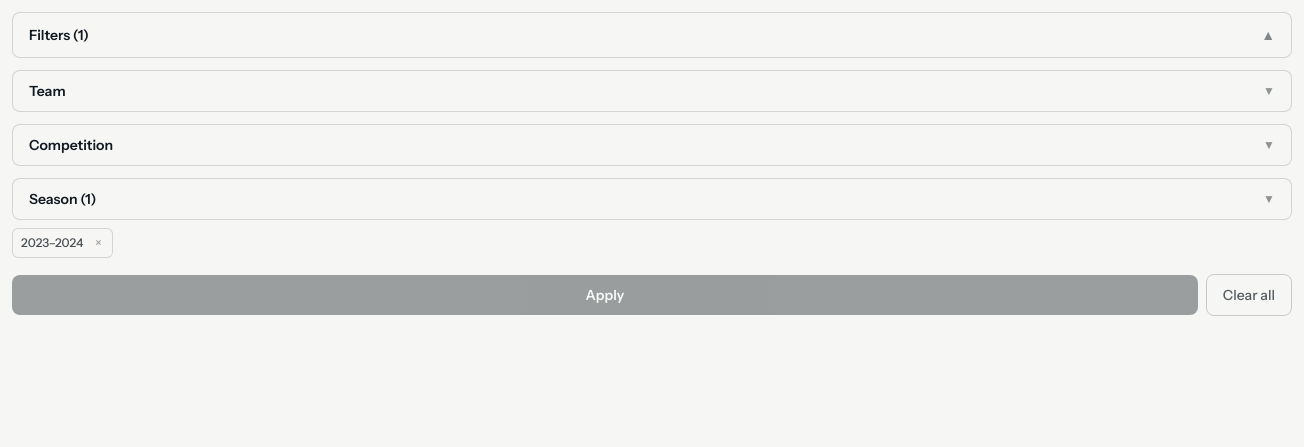
Test case: FilterPanel competition and season chips › shows one range chip for a two-bound season and no separate Clear button
Click the button "Season (1) ▼".
click(53, 199)  # box [12,178,1292,220]
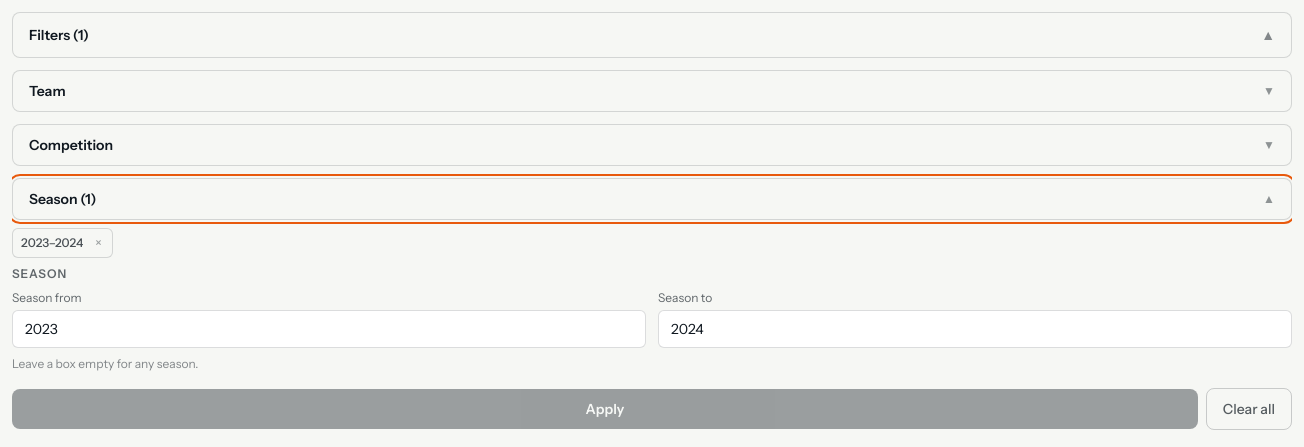
Click the button named "Remove 2023–2024 from Season".
click(98, 243)  # box [89,233,108,253]
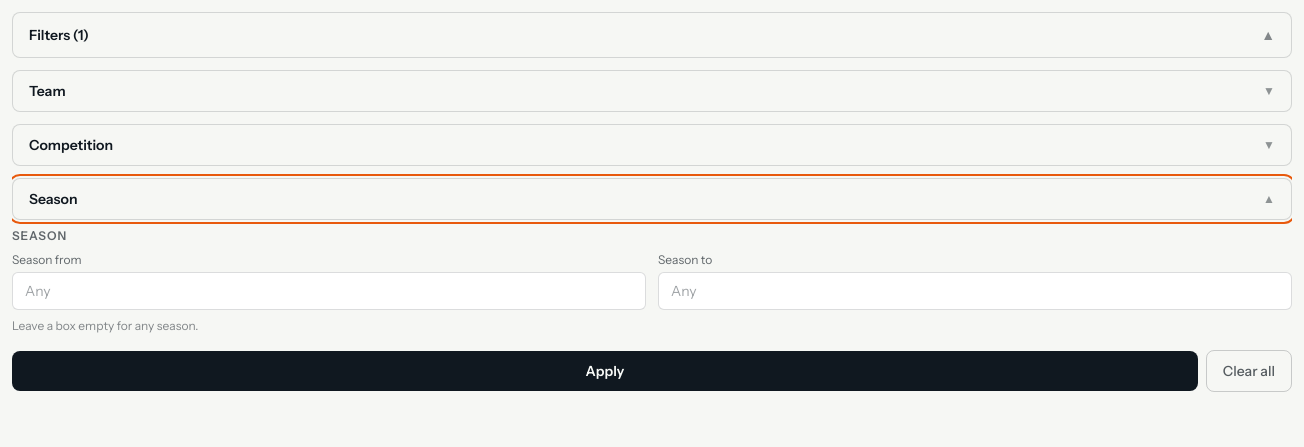
Now the number field labelled "Season from" is not empty, box [12,272,646,310]
Now the number field labelled "Season to" is not empty, box [658,272,1292,310]
